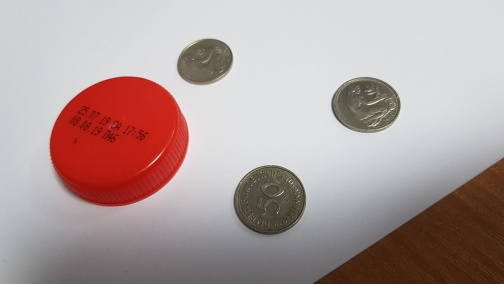coin: (233, 164, 307, 236), (331, 76, 401, 133), (176, 38, 234, 85)
